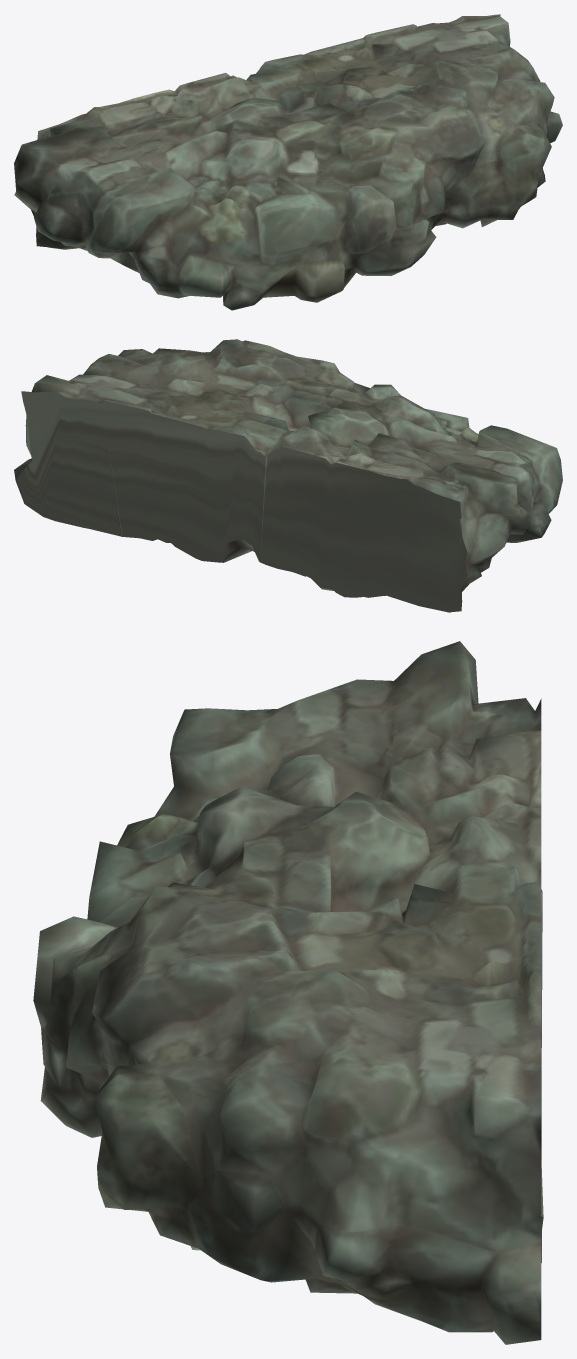
Rendered from RuinsWall_B_Top_A.fbx.
The picture shows the model from 3 angles, top to bottom: view 1: azimuth 30°, elevation 25°; view 2: azimuth 150°, elevation 25°; view 3: azimuth 270°, elevation 25°; orthographic projection. The views are drawn at different scales.
Visible parts, largest first — view 1: RuinsWall_B_Top_A; view 2: RuinsWall_B_Top_A; view 3: RuinsWall_B_Top_A.
Boxes of the visible parts, bbox=[...] form: RuinsWall_B_Top_A: bbox=[14, 14, 562, 310]; RuinsWall_B_Top_A: bbox=[14, 339, 562, 612]; RuinsWall_B_Top_A: bbox=[33, 641, 543, 1344].
Bounding box in the file's own units: 1114 × 328 × 499.
